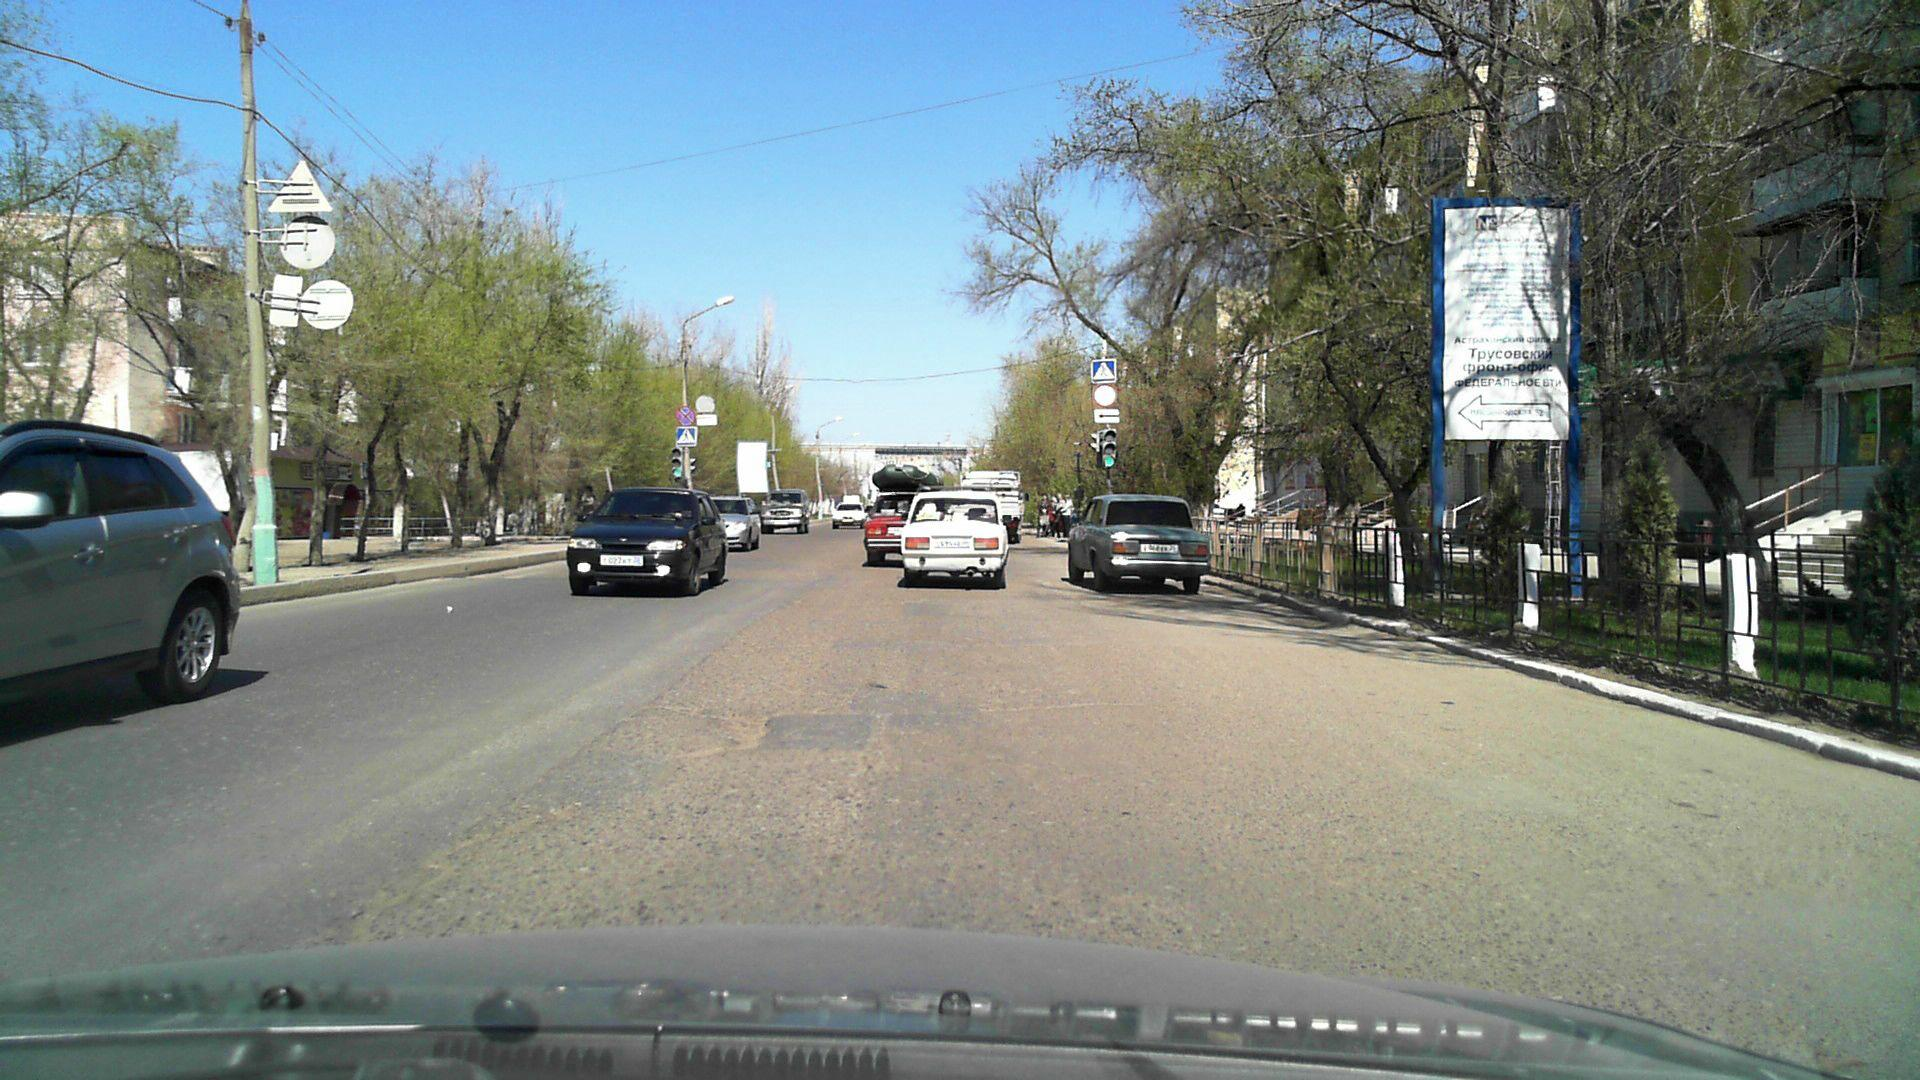3_2: (1093, 384, 1118, 406)
3_27: (676, 405, 695, 426)
5_19_1: (1091, 359, 1116, 382)
5_19_2: (678, 427, 698, 446)
8_3_2: (1093, 409, 1122, 425)
